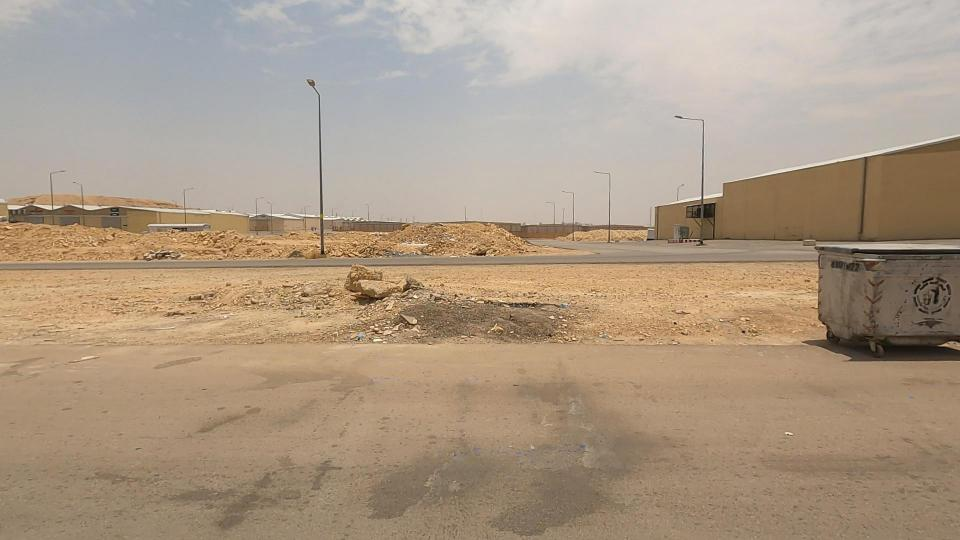GARBAGE: (442, 246, 608, 354), (318, 286, 434, 361), (113, 215, 203, 281)
